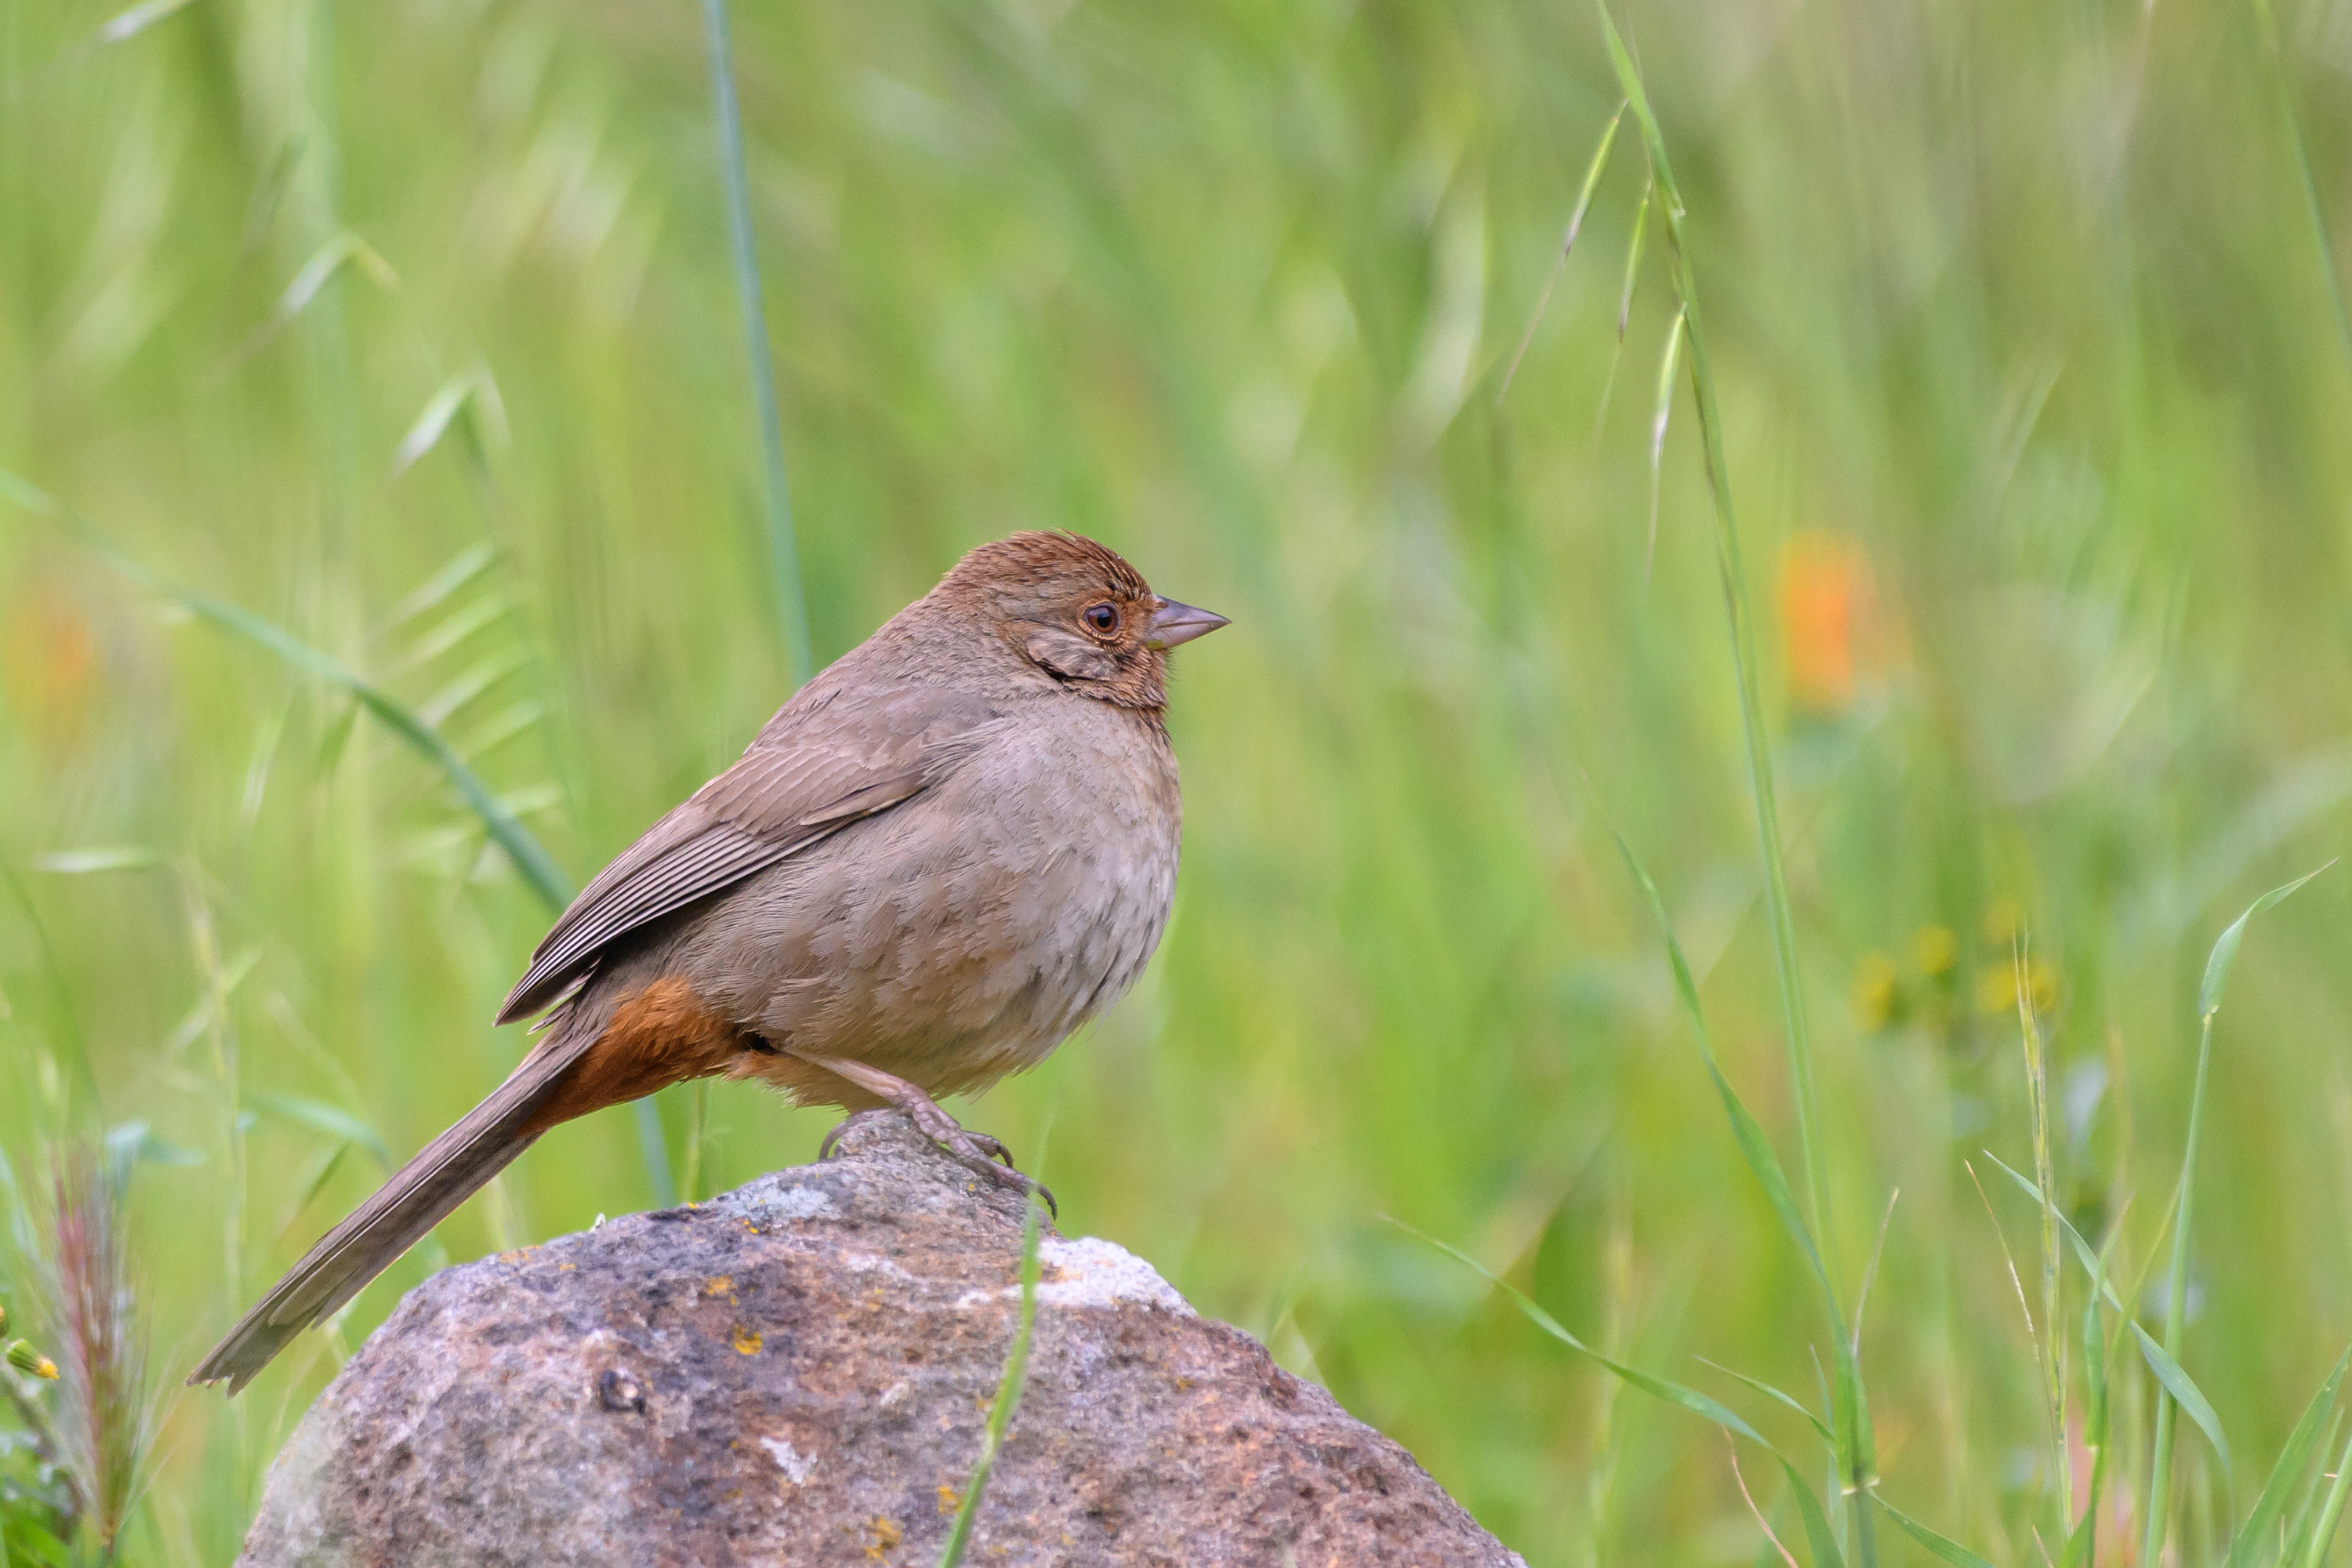bird: (140, 469, 1257, 1419)
